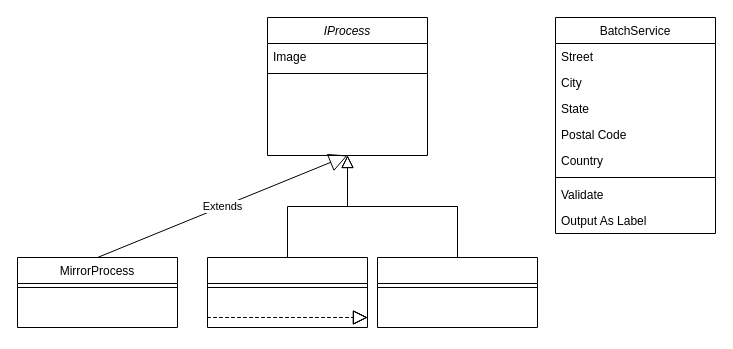
Some shapes in this 733 by 349 pixel diagram are drawn without their labels. The box of each missing label's shape, as (x1, y1, x2, y2) in pixels:
FlipProcess: (206, 256, 368, 328)
WaterMarkProcess: (376, 256, 538, 328)
